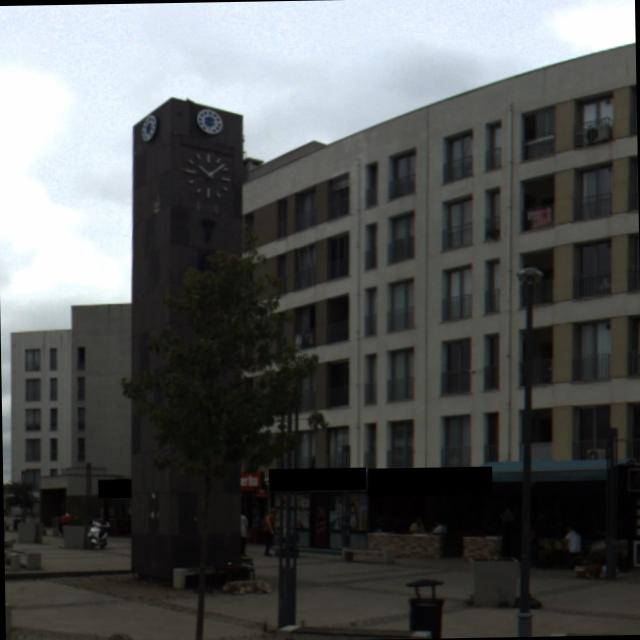SignStore: (367, 466, 492, 495), (269, 467, 366, 490), (99, 479, 131, 498), (239, 472, 262, 491)
